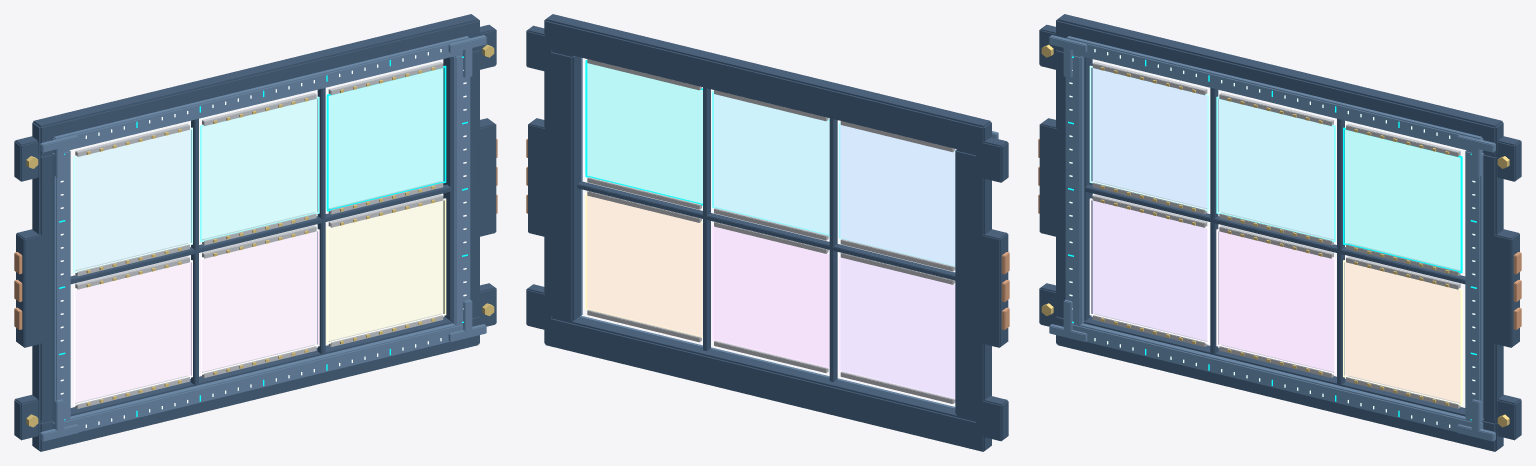
Rendered from focal_plane.glb.
3 views of the same model, side by side, from view 1: azimuth 30°, elevation 25°; view 2: azimuth 150°, elevation 25°; view 3: azimuth 330°, elevation 25° (orthographic).
Parts seen in each view (by area): view 1: FPA_ColdPlate_Chassis, FPA_ColdShield_Bezel, Detector_D4, Detector_D1, Detector_D2, Detector_D5, Detector_D3, Detector_D6, FPA_Ceramic_Carriers, FPA_Gold_WireBonds, Detector_D6_Rim, Detector_D3_Rim (+6 smaller); view 2: FPA_ColdPlate_Chassis, Detector_D2, Detector_D5, Detector_D3, Detector_D6, Detector_D1, Detector_D4, FPA_Ceramic_Carriers, FPA_ColdShield_Bezel, FPA_Cryo_ThermalStraps, Detector_D3_Rim, Detector_D1_Rim (+2 smaller); view 3: FPA_ColdPlate_Chassis, FPA_ColdShield_Bezel, Detector_D6, Detector_D2, Detector_D3, Detector_D5, Detector_D1, Detector_D4, FPA_Ceramic_Carriers, FPA_Gold_WireBonds, Detector_D4_Rim, Detector_D1_Rim (+6 smaller).
Boxes of the visible parts, bbox=[...] form: FPA_ColdPlate_Chassis: bbox=[14, 14, 496, 451]; FPA_ColdShield_Bezel: bbox=[40, 35, 486, 441]; Detector_D4: bbox=[75, 262, 190, 402]; Detector_D1: bbox=[75, 130, 190, 270]; Detector_D2: bbox=[202, 99, 317, 239]; Detector_D5: bbox=[202, 232, 317, 372]; Detector_D3: bbox=[329, 68, 443, 208]; Detector_D6: bbox=[329, 201, 443, 341]; FPA_Ceramic_Carriers: bbox=[75, 62, 443, 408]; FPA_Gold_WireBonds: bbox=[26, 44, 494, 427]; Detector_D6_Rim: bbox=[326, 198, 446, 343]; Detector_D3_Rim: bbox=[326, 65, 446, 211]; FPA_ColdPlate_Chassis: bbox=[526, 14, 1008, 451]; Detector_D2: bbox=[712, 93, 829, 235]; Detector_D5: bbox=[712, 226, 829, 367]; Detector_D3: bbox=[586, 62, 702, 204]; Detector_D6: bbox=[586, 195, 702, 337]; Detector_D1: bbox=[839, 124, 954, 266]; Detector_D4: bbox=[839, 257, 954, 398]; FPA_Ceramic_Carriers: bbox=[587, 59, 955, 403]; FPA_ColdShield_Bezel: bbox=[579, 57, 998, 408]; FPA_Cryo_ThermalStraps: bbox=[526, 138, 1009, 329]; Detector_D3_Rim: bbox=[585, 60, 702, 205]; Detector_D1_Rim: bbox=[838, 122, 955, 266]; FPA_ColdPlate_Chassis: bbox=[1039, 14, 1521, 451]; FPA_ColdShield_Bezel: bbox=[1049, 35, 1495, 441]; Detector_D6: bbox=[1345, 262, 1460, 402]; Detector_D2: bbox=[1218, 99, 1333, 239]; Detector_D3: bbox=[1345, 130, 1460, 270]; Detector_D5: bbox=[1218, 232, 1333, 372]; Detector_D1: bbox=[1092, 68, 1206, 208]; Detector_D4: bbox=[1092, 201, 1206, 341]; FPA_Ceramic_Carriers: bbox=[1092, 62, 1460, 408]; FPA_Gold_WireBonds: bbox=[1041, 44, 1509, 427]; Detector_D4_Rim: bbox=[1089, 198, 1209, 343]; Detector_D1_Rim: bbox=[1089, 65, 1209, 211].
Bounding box in the file's own units: 7.56 × 4.92 × 0.36.
